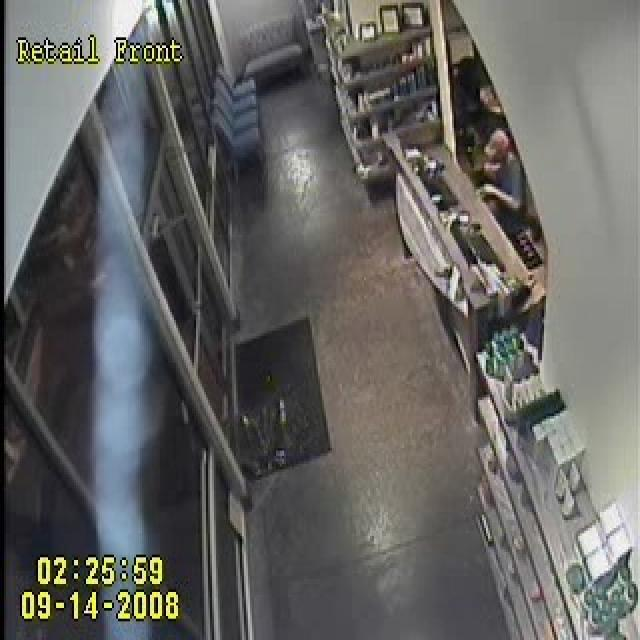thief: (465, 125, 525, 242)
